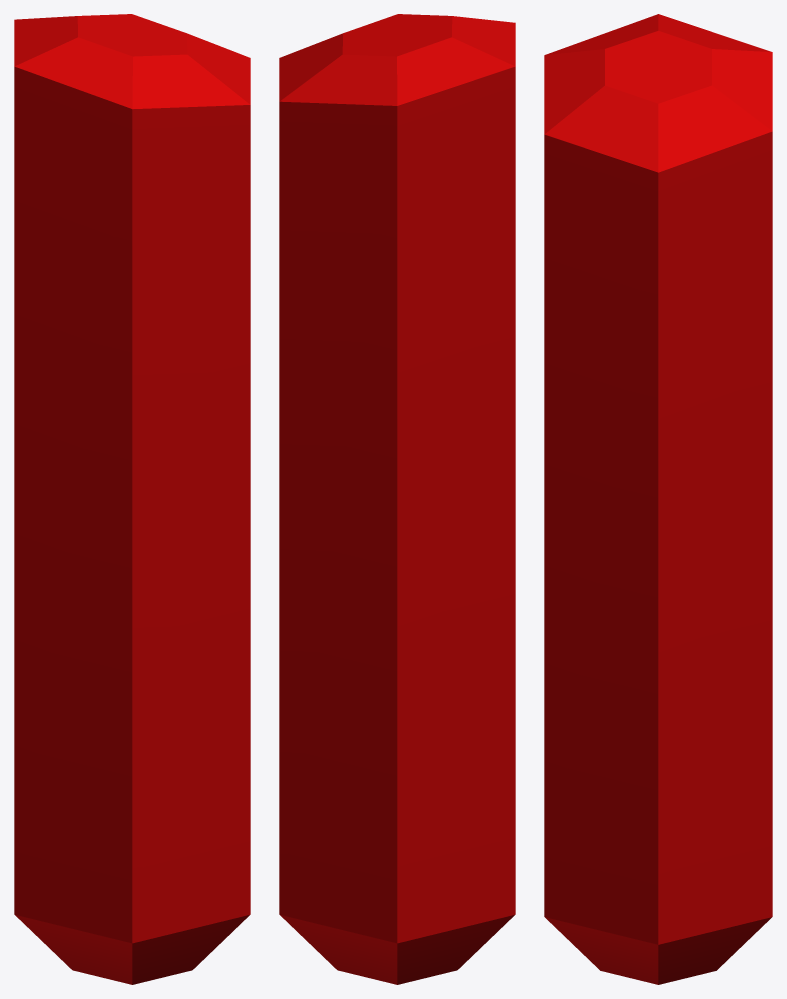
File: geology-crystals-coloredcrystal_v8.fbx
3 views of the same model, side by side, from view 1: azimuth 30°, elevation 25°; view 2: azimuth 150°, elevation 25°; view 3: azimuth 270°, elevation 25° (orthographic). The views are drawn at different scales.
Parts seen in each view (by area): view 1: ColoredCrystal_v8; view 2: ColoredCrystal_v8; view 3: ColoredCrystal_v8.
Boxes of the visible parts, x1,y1,x2,y2 form: ColoredCrystal_v8: (14, 14, 250, 984); ColoredCrystal_v8: (279, 14, 515, 984); ColoredCrystal_v8: (544, 14, 772, 984).
Bounding box in the file's own units: 1.5 × 5.65 × 1.3.
